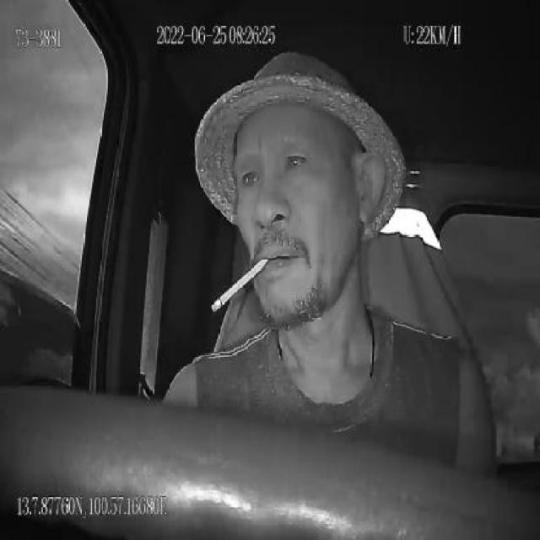smoking: (212, 255, 270, 315)
